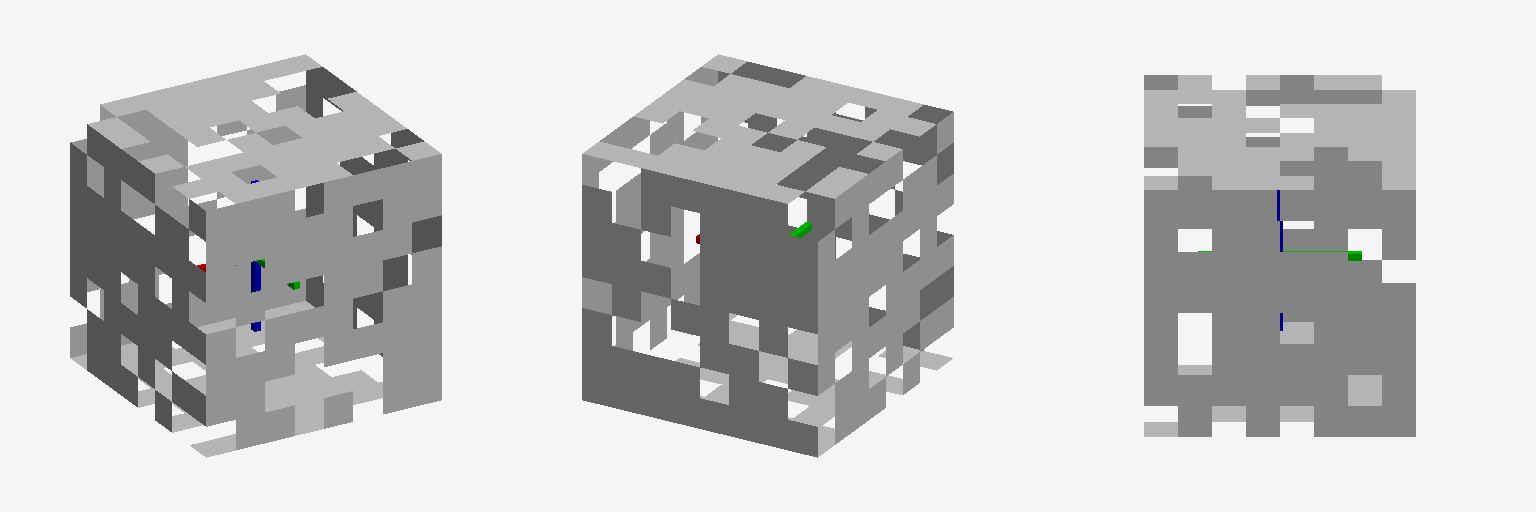
File: camera_test.obj
The picture shows the model from 3 angles: view 1: azimuth 30°, elevation 25°; view 2: azimuth 150°, elevation 25°; view 3: azimuth 270°, elevation 25°; orthographic projection.
Parts seen in each view (by area): view 1: Cube_Cube.001; view 2: Cube_Cube.001; view 3: Cube_Cube.001.
Part boxes in pixels (x1,y1,x2,y2): Cube_Cube.001: (70, 54, 441, 457); Cube_Cube.001: (582, 54, 953, 457); Cube_Cube.001: (1144, 75, 1415, 436).
Bounding box in the file's own units: 2 × 2 × 2.